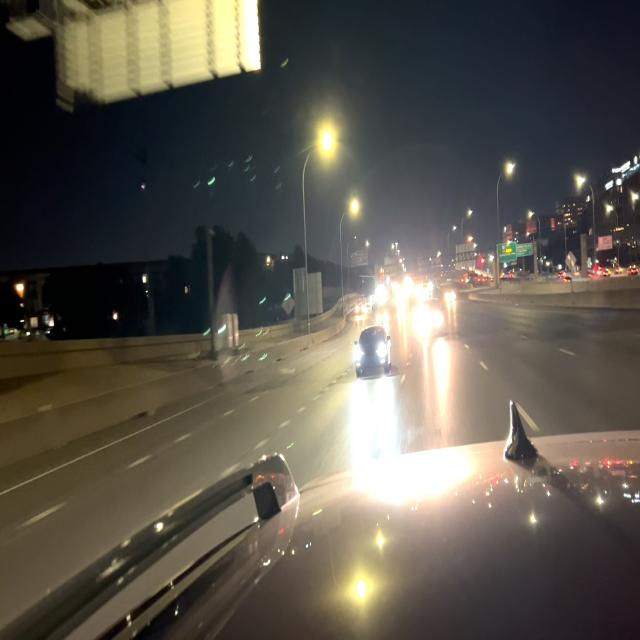back-of-sign: (49, 0, 262, 101), (292, 266, 324, 320), (455, 240, 477, 275)
